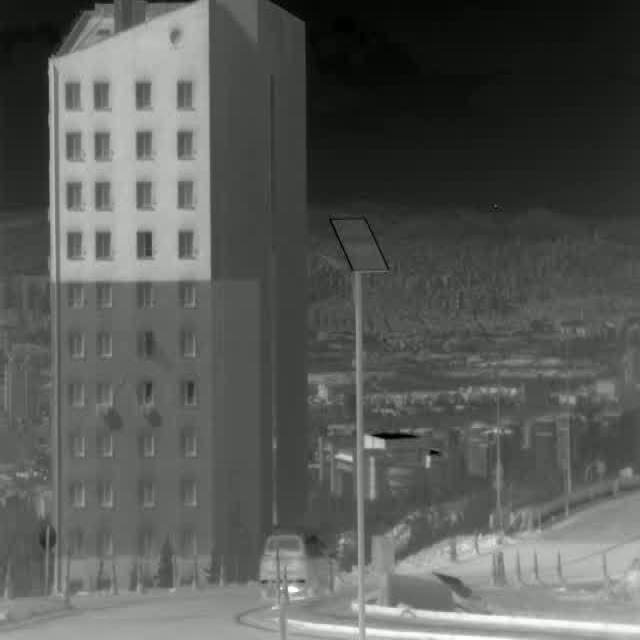Car: (260, 534, 334, 602)
